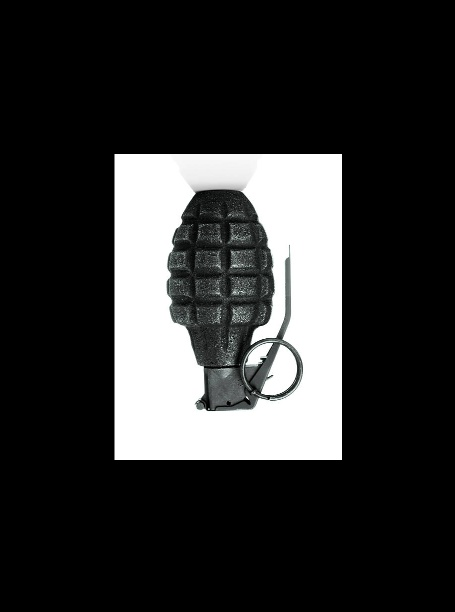e1: (167, 186, 304, 412)
